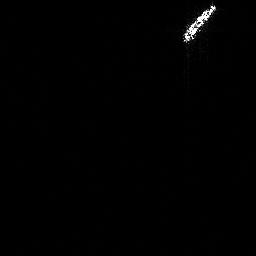ship: (177, 1, 219, 46)
